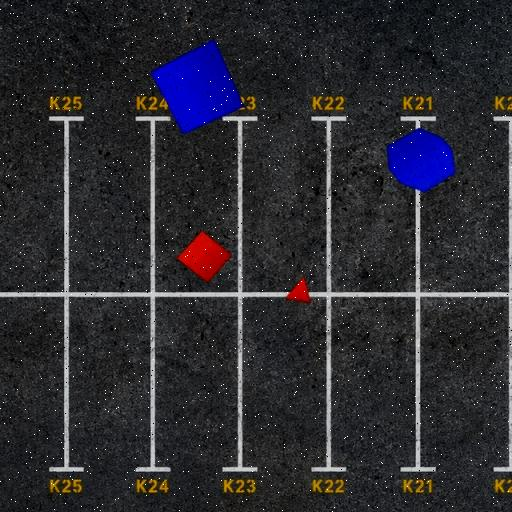BLUE_SQUARE: (150, 38, 244, 136)
RED_SQUARE: (176, 230, 233, 284)
